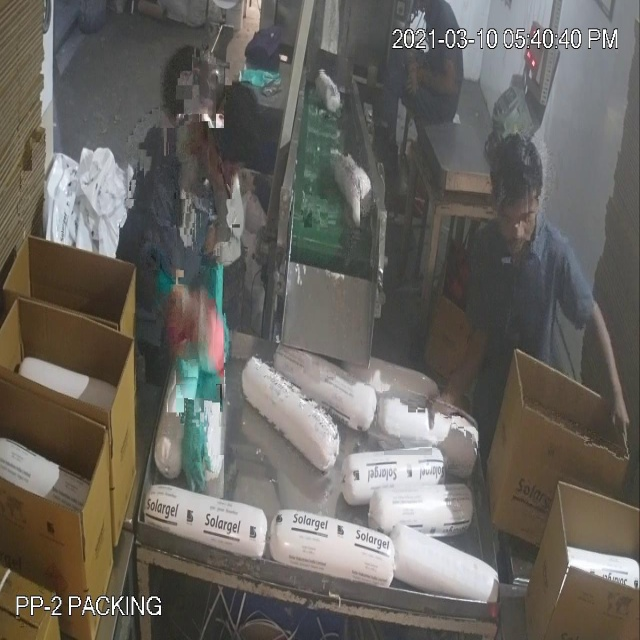Sin_guantes: (569, 279, 636, 470), (420, 304, 506, 440), (412, 53, 468, 114)
